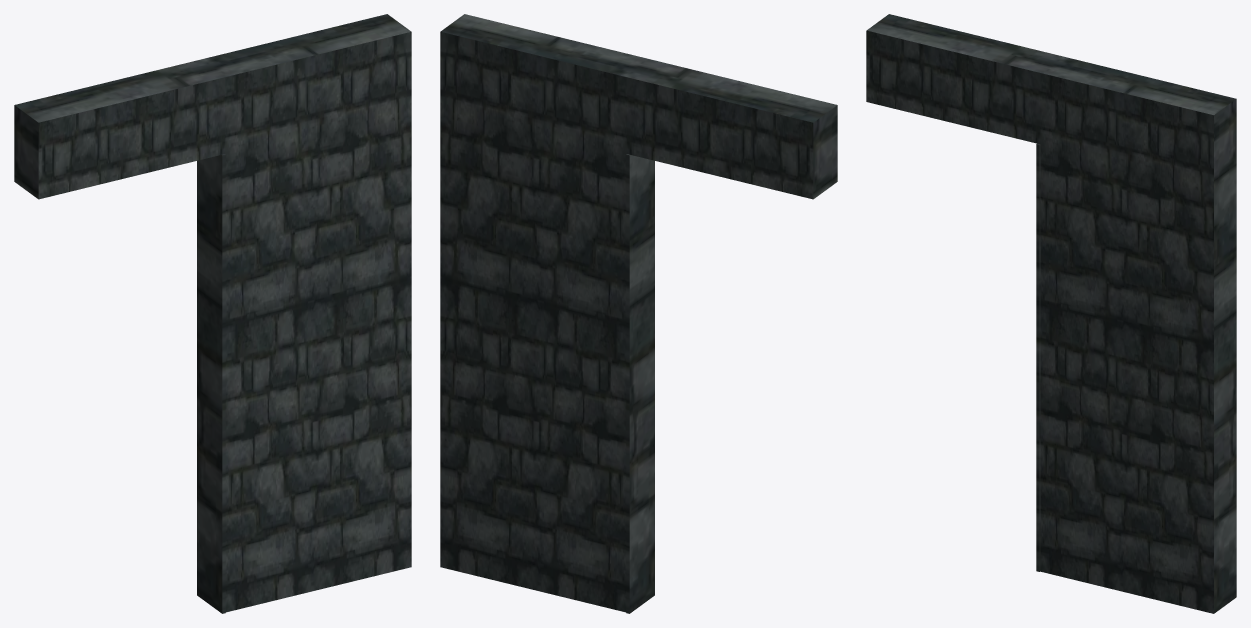
The model's file is dark stone wall door slot open side.glb.
3 renders of one model, left to right at view 1: azimuth 30°, elevation 25°; view 2: azimuth 150°, elevation 25°; view 3: azimuth 330°, elevation 25°, orthographic. The views are drawn at different scales.
Parts seen in each view (by area): view 1: mesh_wall_door_slot_v7_darkstone_open_side, mesh_wall_door_slot_v7_darkstone_open_side_reveal; view 2: mesh_wall_door_slot_v7_darkstone_open_side, mesh_wall_door_slot_v7_darkstone_open_side_reveal; view 3: mesh_wall_door_slot_v7_darkstone_open_side, mesh_wall_door_slot_v7_darkstone_open_side_reveal.
Boxes of the visible parts, x1,y1,x2,y2 form: mesh_wall_door_slot_v7_darkstone_open_side: (14,14,411,612); mesh_wall_door_slot_v7_darkstone_open_side_reveal: (197,154,225,613); mesh_wall_door_slot_v7_darkstone_open_side: (440,14,837,612); mesh_wall_door_slot_v7_darkstone_open_side_reveal: (626,154,654,613); mesh_wall_door_slot_v7_darkstone_open_side: (866,14,1236,613); mesh_wall_door_slot_v7_darkstone_open_side_reveal: (1036,143,1040,571).
Bounding box in the file's own units: 2 × 2.74 × 0.237.
1 material, 1 textured.
